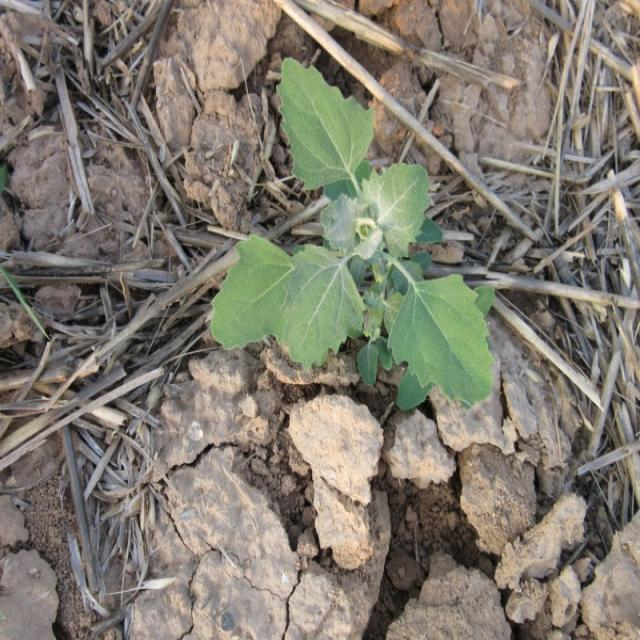ca: (210, 60, 495, 407)
